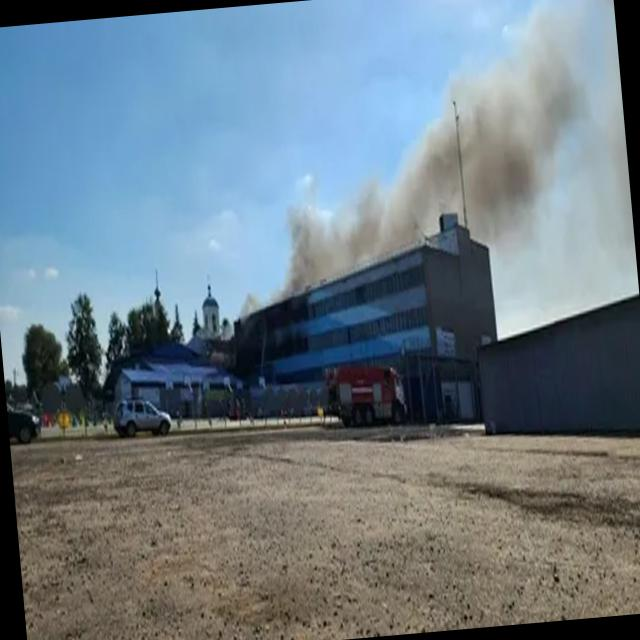Smoke: (270, 12, 588, 291)
